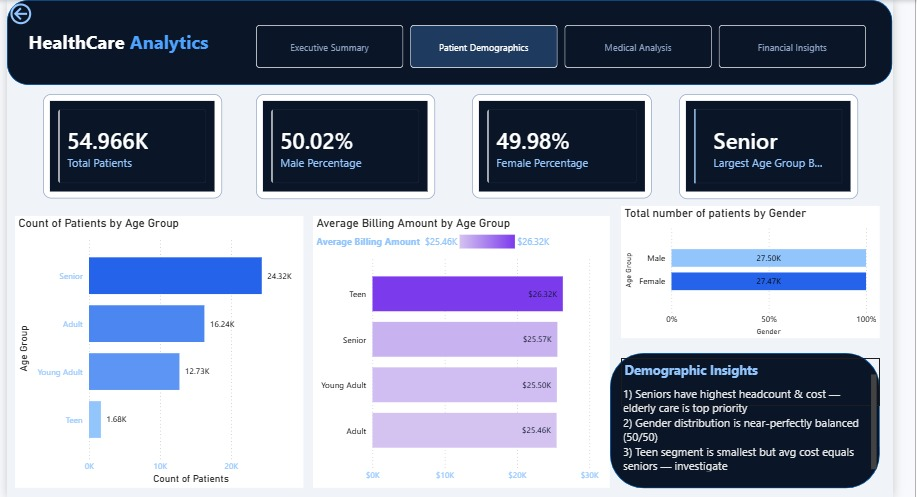

What the dashboard file says about the page in this screenshot:
{"tool":"powerbi","page":{"name":"Patient Demographics","canvas":[1280,720],"ordinal":1},"visuals":[{"type":"shape","box":[871.4,510,390,195.7],"z":0},{"type":"shape","box":[0,0,1280,122.9],"z":1000},{"type":"cardVisual","fields":{"Data":["healthcare_dataset.Female Percentage"]},"box":[672.9,135.7,260,151.4],"z":2000},{"type":"textbox","box":[25.7,35.7,310,74.3],"z":3000},{"type":"pageNavigator","box":[360,35.7,885.7,62.9],"z":4000},{"type":"cardVisual","fields":{"Data":["healthcare_dataset.Male Percentage"]},"box":[360,135.9,258.8,151.8],"z":5000},{"type":"cardVisual","fields":{"Data":["CountNonNull(healthcare_dataset.Name)"]},"box":[51.4,135.7,258.6,151.4],"z":6000},{"type":"cardVisual","fields":{"Data":["healthcare_dataset.Largest Age Group By Billing"]},"box":[971.6,135.9,258.8,151.8],"z":7000},{"type":"clusteredBarChart","fields":{"Category":["healthcare_dataset.Age Group"],"Y":["Avg(healthcare_dataset.Billing Amount)"]},"box":[442.9,312.9,428.6,392.9],"z":8000},{"type":"hundredPercentStackedBarChart","fields":{"Category":["healthcare_dataset.Gender"],"Y":["CountNonNull(healthcare_dataset.Age Group)"]},"box":[887.1,297.1,374.3,191.4],"z":9000},{"type":"clusteredBarChart","fields":{"Category":["healthcare_dataset.Age Group"],"Y":["CountNonNull(healthcare_dataset.Name)"]},"box":[11.4,312.9,417.1,392.9],"z":10000},{"type":"textbox","box":[887.1,517.1,374.3,70],"z":11000,"group":"g1"},{"type":"textbox","box":[885.7,535.7,375.7,150],"z":12000,"group":"g1"},{"type":"actionButton","box":[0,0,100,40],"z":13000},{"type":"group","id":"g1","title":"Group 1","box":[885.7,517.1,375.7,168.6],"z":13001}]}

Visuals, with their boxes on the page's 1280x720 design canvas (x1, y1, x2, y2). These are canvas units, not pixel positions in the 917x497 screenshot, which may show the page scaled, cropped or inside an application window:
shape: {"left": 871, "top": 510, "right": 1261, "bottom": 706}
shape: {"left": 0, "top": 0, "right": 1280, "bottom": 123}
cardVisual - healthcare_dataset.Female Percentage: {"left": 673, "top": 136, "right": 933, "bottom": 287}
textbox: {"left": 26, "top": 36, "right": 336, "bottom": 110}
pageNavigator: {"left": 360, "top": 36, "right": 1246, "bottom": 99}
cardVisual - healthcare_dataset.Male Percentage: {"left": 360, "top": 136, "right": 619, "bottom": 288}
cardVisual - CountNonNull(healthcare_dataset.Name): {"left": 51, "top": 136, "right": 310, "bottom": 287}
cardVisual - healthcare_dataset.Largest Age Group By Billing: {"left": 972, "top": 136, "right": 1230, "bottom": 288}
clusteredBarChart - healthcare_dataset.Age Group x Avg(healthcare_dataset.Billing Amount): {"left": 443, "top": 313, "right": 872, "bottom": 706}
hundredPercentStackedBarChart - healthcare_dataset.Gender x CountNonNull(healthcare_dataset.Age Group): {"left": 887, "top": 297, "right": 1261, "bottom": 488}
clusteredBarChart - healthcare_dataset.Age Group x CountNonNull(healthcare_dataset.Name): {"left": 11, "top": 313, "right": 428, "bottom": 706}
textbox: {"left": 887, "top": 517, "right": 1261, "bottom": 587}
textbox: {"left": 886, "top": 536, "right": 1261, "bottom": 686}
actionButton: {"left": 0, "top": 0, "right": 100, "bottom": 40}
"Group 1" group: {"left": 886, "top": 517, "right": 1261, "bottom": 686}
